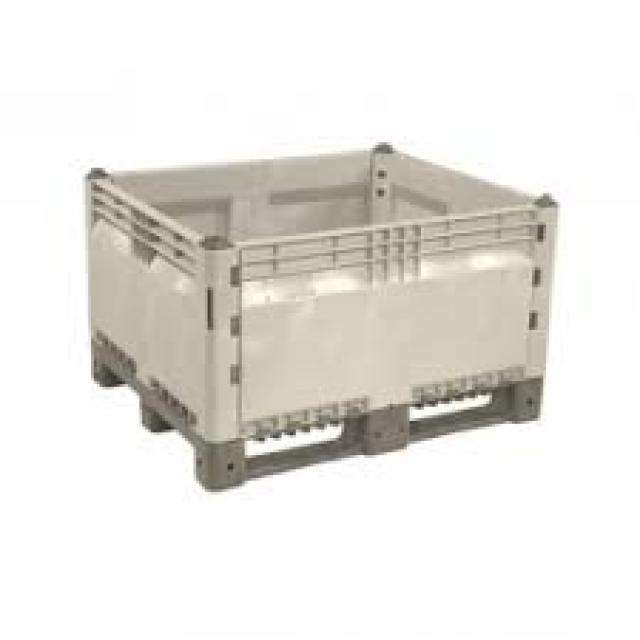basket: (51, 75, 604, 512)
